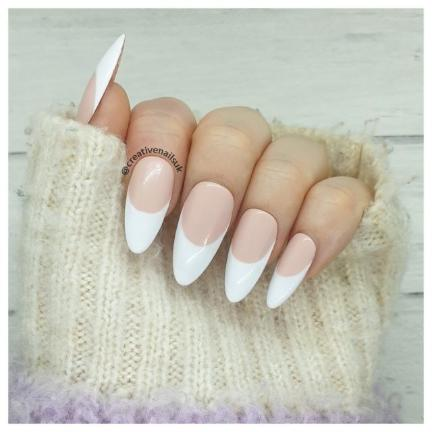Nail: (173, 181, 235, 285), (225, 208, 277, 302), (125, 156, 175, 253), (76, 35, 124, 123), (267, 234, 316, 308)
